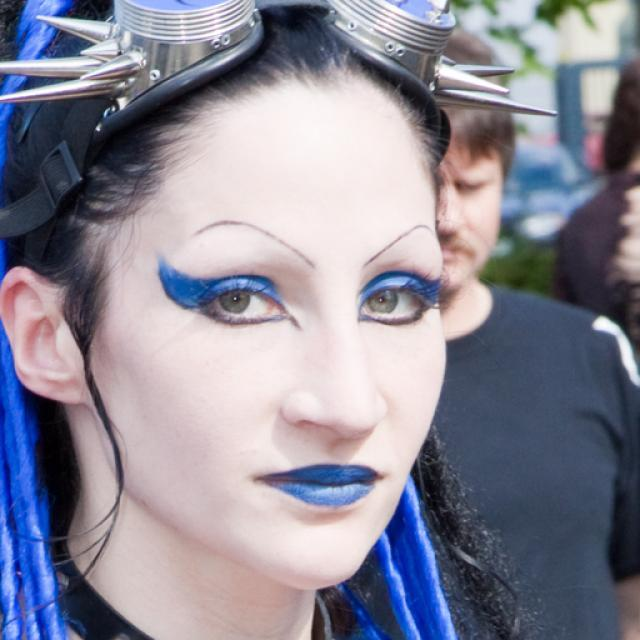neutral: (90, 64, 450, 592)
